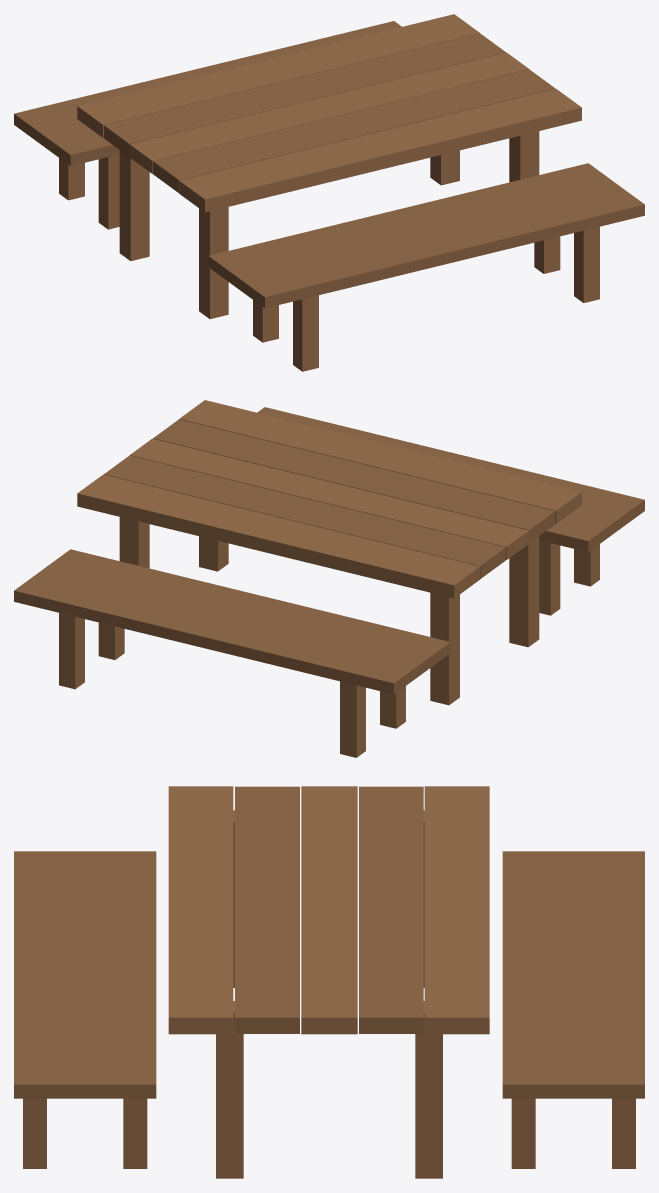
The model's file is Bench_03.fbx.
The picture shows the model from 3 angles, top to bottom: view 1: azimuth 30°, elevation 25°; view 2: azimuth 150°, elevation 25°; view 3: azimuth 270°, elevation 25°; orthographic projection. The views are drawn at different scales.
Parts seen in each view (by area): view 1: Bench_03; view 2: Bench_03; view 3: Bench_03.
Boxes of the visible parts, box(x1,y1,x2,y2) form: Bench_03: box(14, 14, 644, 371); Bench_03: box(14, 400, 644, 757); Bench_03: box(14, 786, 644, 1178).
Bounding box in the file's own units: 4.18 × 1.47 × 4.78.
